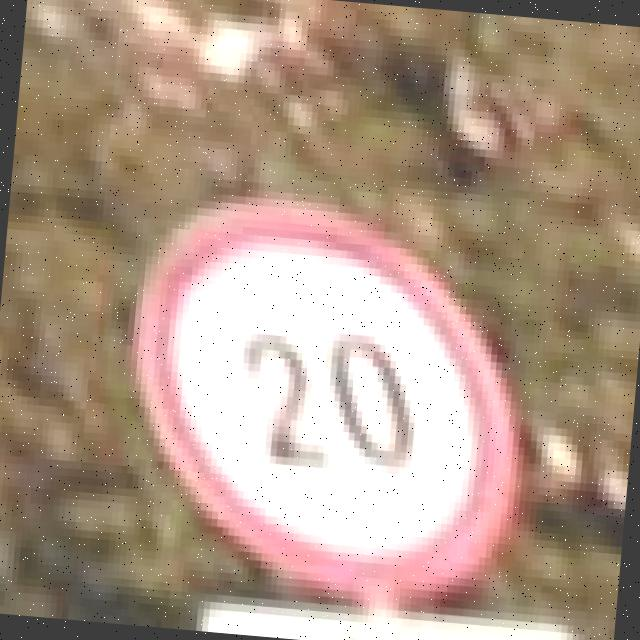Ograniczenie predkosci do 20: (117, 181, 538, 612)
